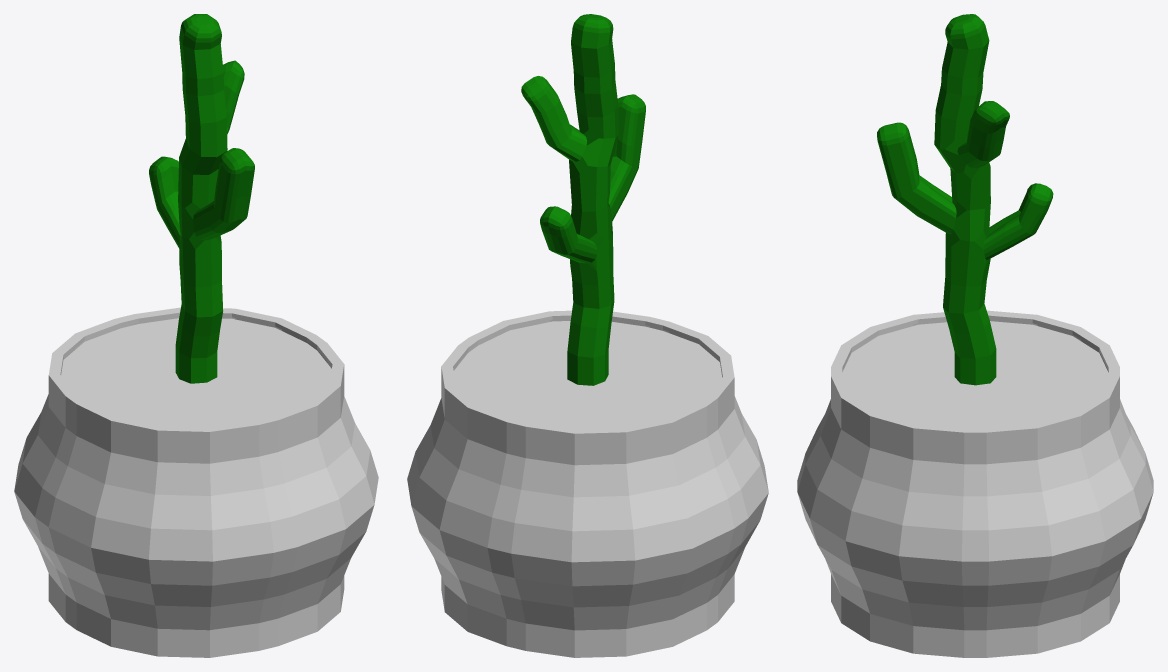
The model's file is PottedCactus.fbx.
3 views of the same model, side by side, from view 1: azimuth 30°, elevation 25°; view 2: azimuth 150°, elevation 25°; view 3: azimuth 270°, elevation 25° (orthographic).
Visible parts, largest first — view 1: Pot, Cactus, Dirt; view 2: Pot, Cactus, Dirt; view 3: Pot, Cactus, Dirt.
Part boxes in pixels (x1,y1,x2,y2): Pot: (14,307,378,657); Cactus: (149,14,254,383); Dirt: (61,318,331,426); Pot: (407,310,768,657); Cactus: (521,14,645,385); Dirt: (453,321,722,428); Pot: (797,310,1153,657); Cactus: (877,14,1053,385); Dirt: (842,321,1108,427).
Bounding box in the file's own units: 2347 × 4213 × 2347.
